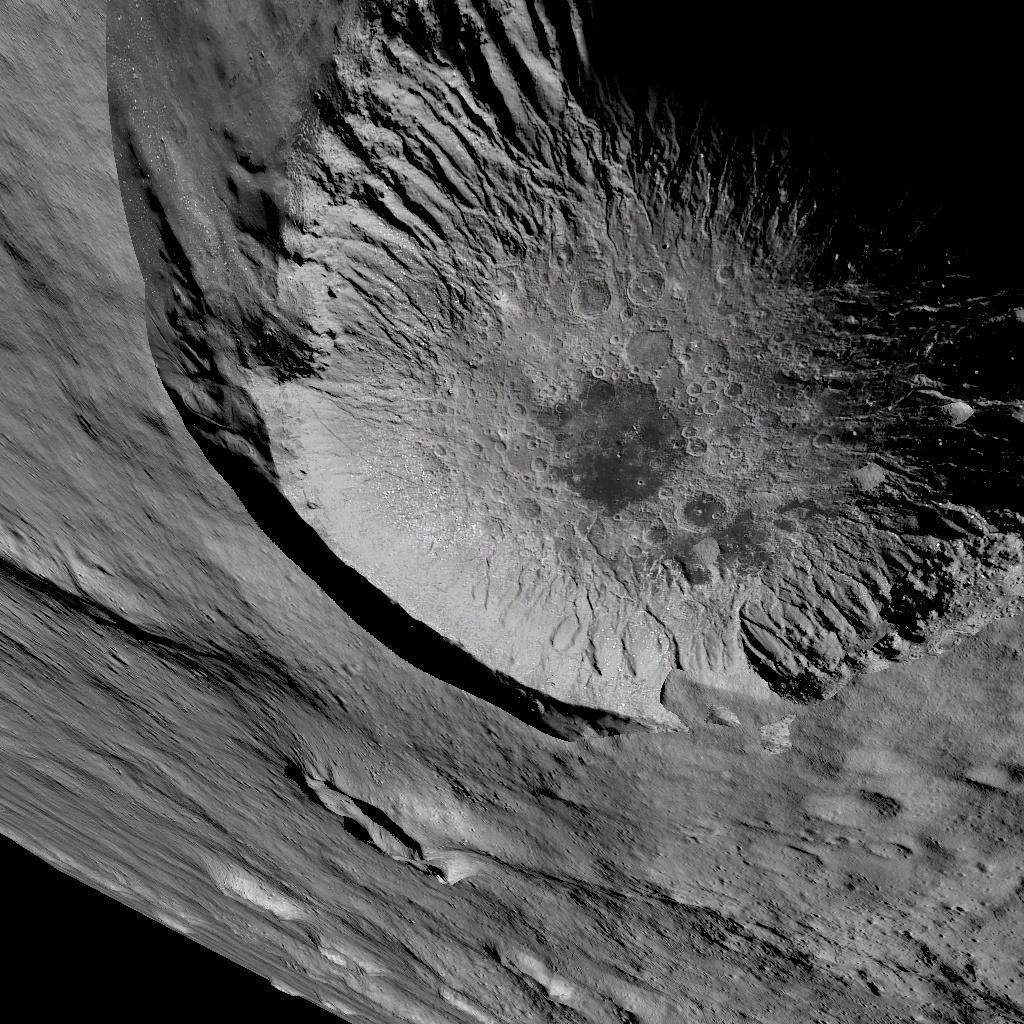Crater: (69, 0, 1024, 740), (272, 752, 452, 898)
Plan surface: (499, 766, 1024, 1024)
